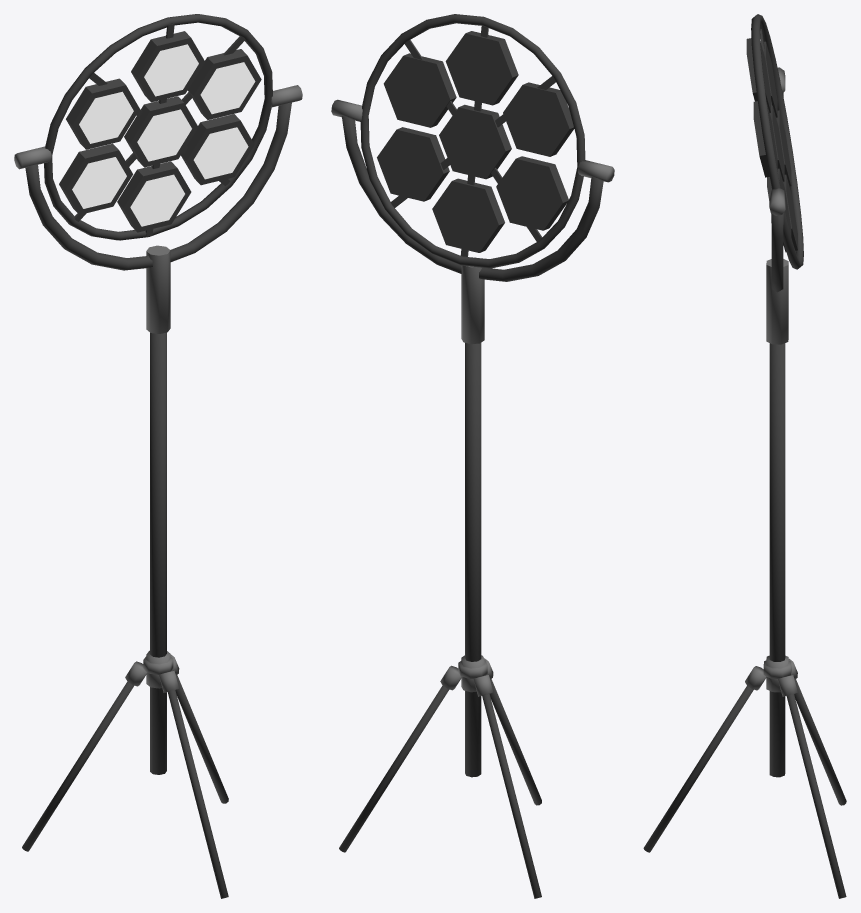
Rendered from photowall_light.gltf.
The picture shows the model from 3 angles, left to right: view 1: azimuth 30°, elevation 25°; view 2: azimuth 150°, elevation 25°; view 3: azimuth 270°, elevation 25°; orthographic projection.
Parts seen in each view (by area): view 1: Photowall_Light.001, Photowall_Light; view 2: Photowall_Light.001, Photowall_Light; view 3: Photowall_Light, Photowall_Light.001.
Boxes of the visible parts, x1,y1,x2,y2 form: Photowall_Light.001: [14, 14, 302, 240]; Photowall_Light: [22, 102, 291, 898]; Photowall_Light.001: [331, 14, 614, 268]; Photowall_Light: [339, 116, 603, 898]; Photowall_Light: [643, 93, 846, 898]; Photowall_Light.001: [746, 14, 803, 269].
Size of what is drawn, in the model's own units: 1.27 by 3.65 by 0.8141.
3 materials, 3 textured.
